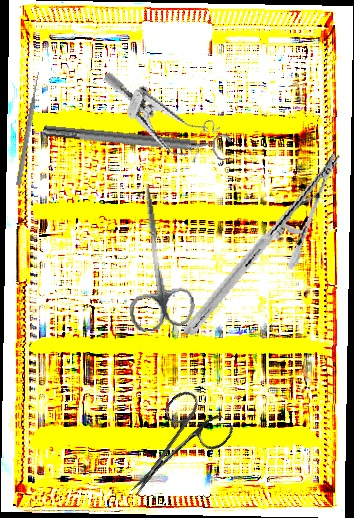Fixation Ring: (41, 114, 233, 164)
Iris Scissors: (108, 384, 238, 517), (112, 179, 198, 334)
Needle Holder: (183, 132, 341, 357)
Pusher: (15, 71, 42, 186)
Speculum: (87, 71, 225, 168)
